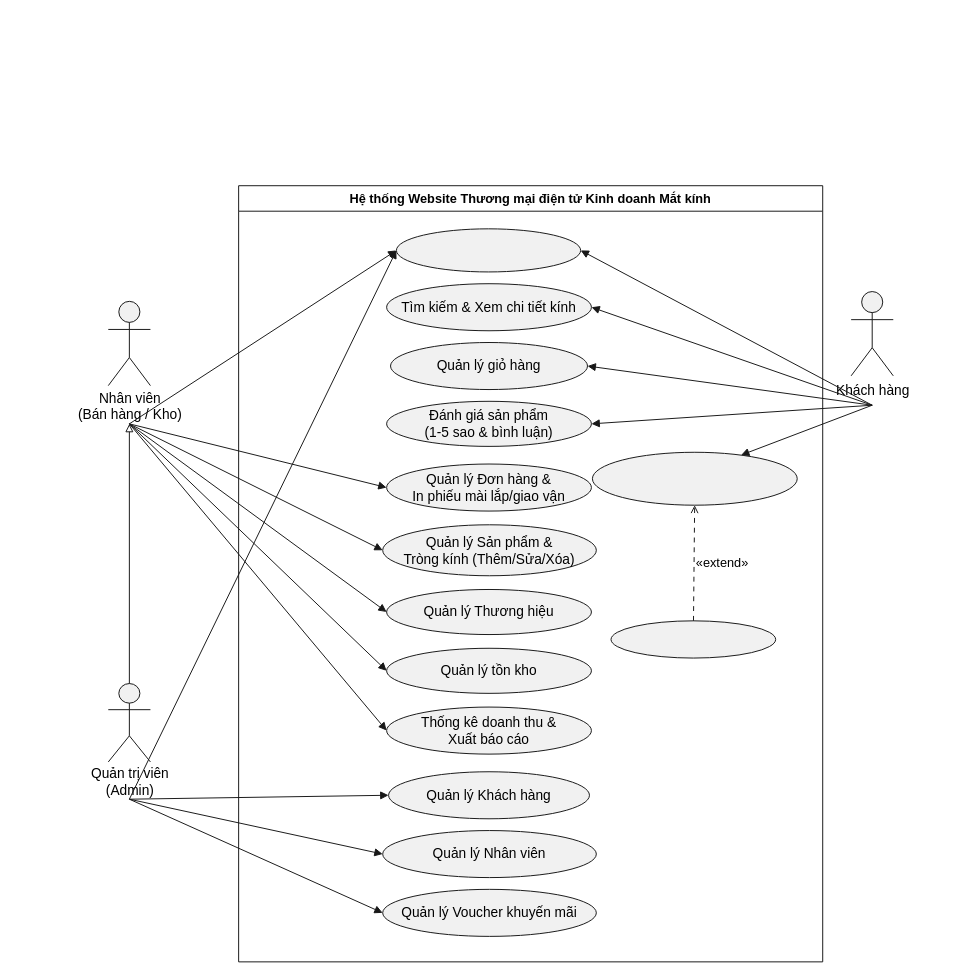
This 955x979 diagram has some shape labels left out. Each missing label, with the centre of its shape:
Quản lý tài khoản: the point at 488,250
Áp dụng mã Voucher: the point at 693,639
Đặt hàng & Thanh toán: the point at 694,478
